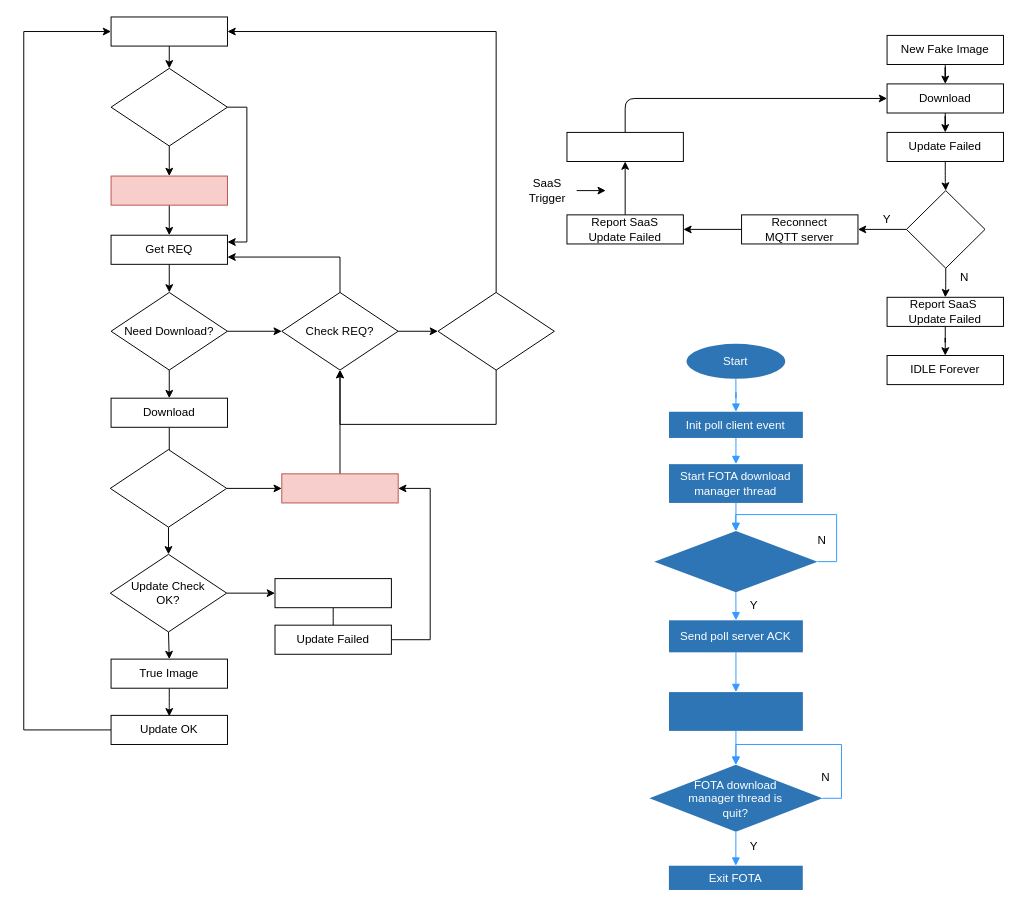
The diagram is 1020 pixels wide and 907 high, and some of its shapes have lost their labels. Here are the shapes that lost their labels. From the top down, the box of each, then its label:
(110, 16, 227, 46): Connect MQTT Server
(110, 67, 227, 146): Need Report?
(566, 131, 683, 162): New a download
(110, 175, 227, 205): Report State
(905, 190, 985, 268): MQTT Timeout
(437, 291, 554, 370): Check Drop?
(109, 449, 227, 527): Download OK?
(281, 473, 398, 503): Report SaaS
(654, 531, 817, 592): Received reboot/SIGINT/SIGTERM signal?
(274, 578, 391, 608): Fake Image
(669, 692, 802, 730): Quit FOTA download manager thread
